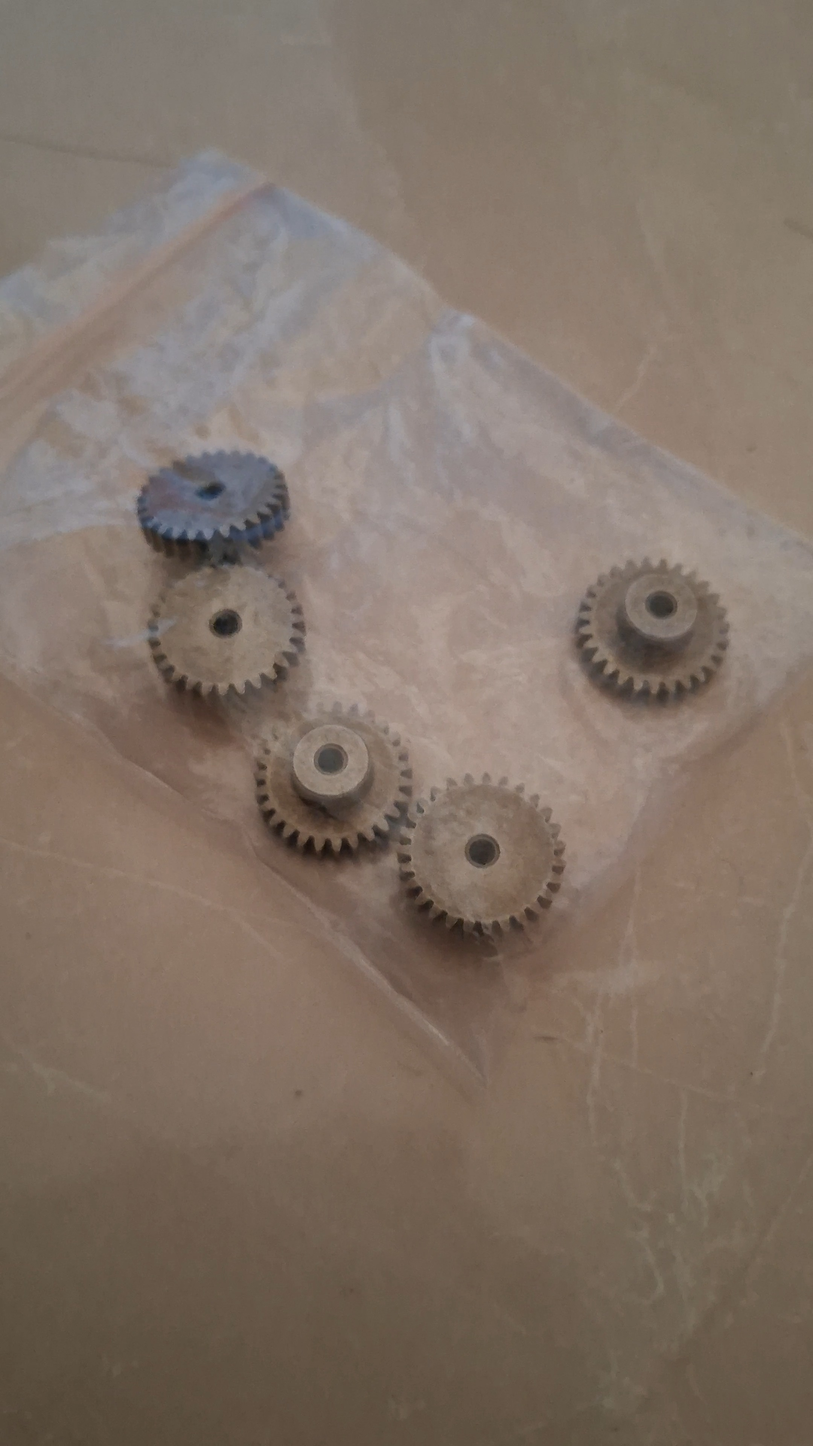spur gear: (398, 774, 564, 934), (256, 705, 411, 854), (576, 559, 728, 698), (148, 565, 304, 696), (137, 451, 289, 562)
